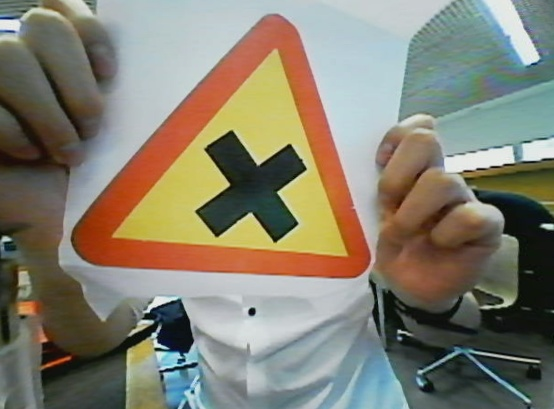junction: (58, 9, 371, 294)
